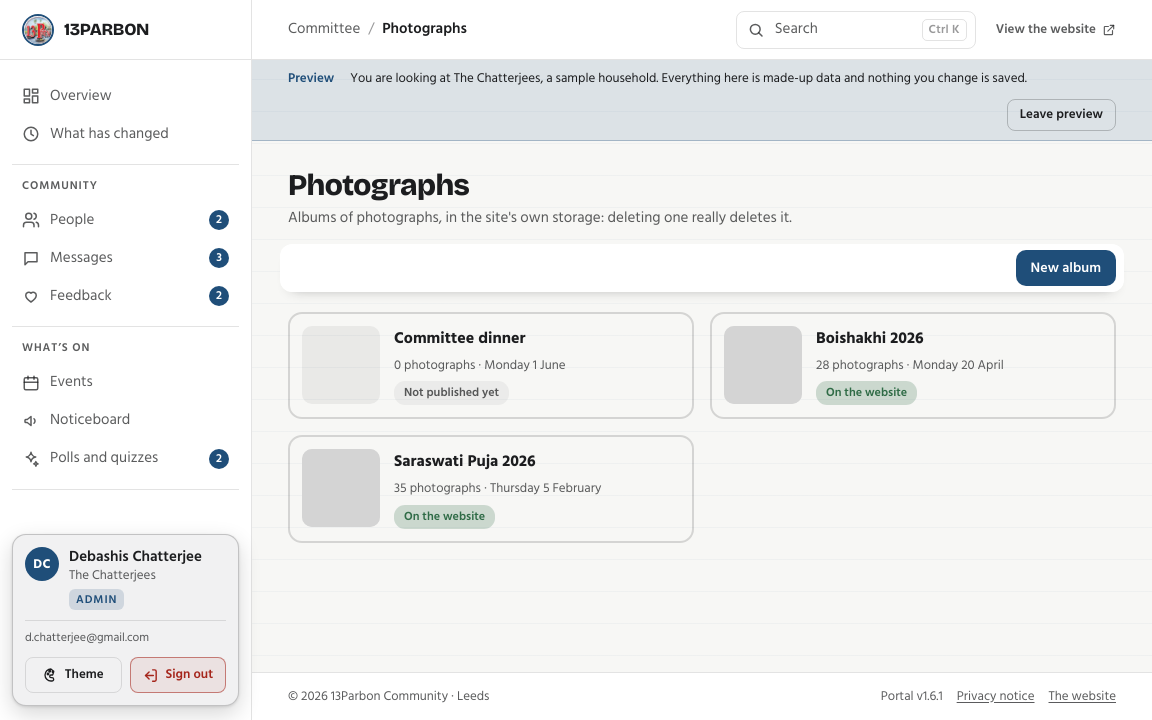
the albums › refuses one with no name and stays on the form
The width and height of the screenshot is (1152, 720).
Click the button "New album" at (1066, 268), box [1016,250,1116,286]
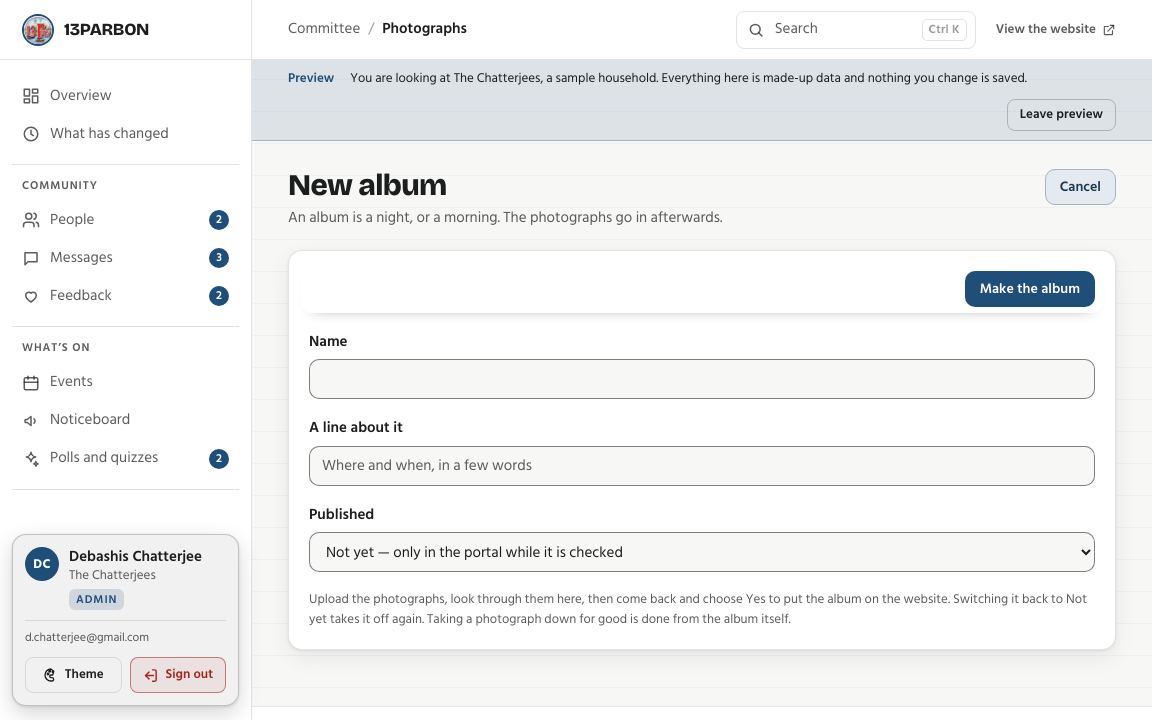
Click the button "Make the album" at (1030, 289), box [965,271,1095,307]
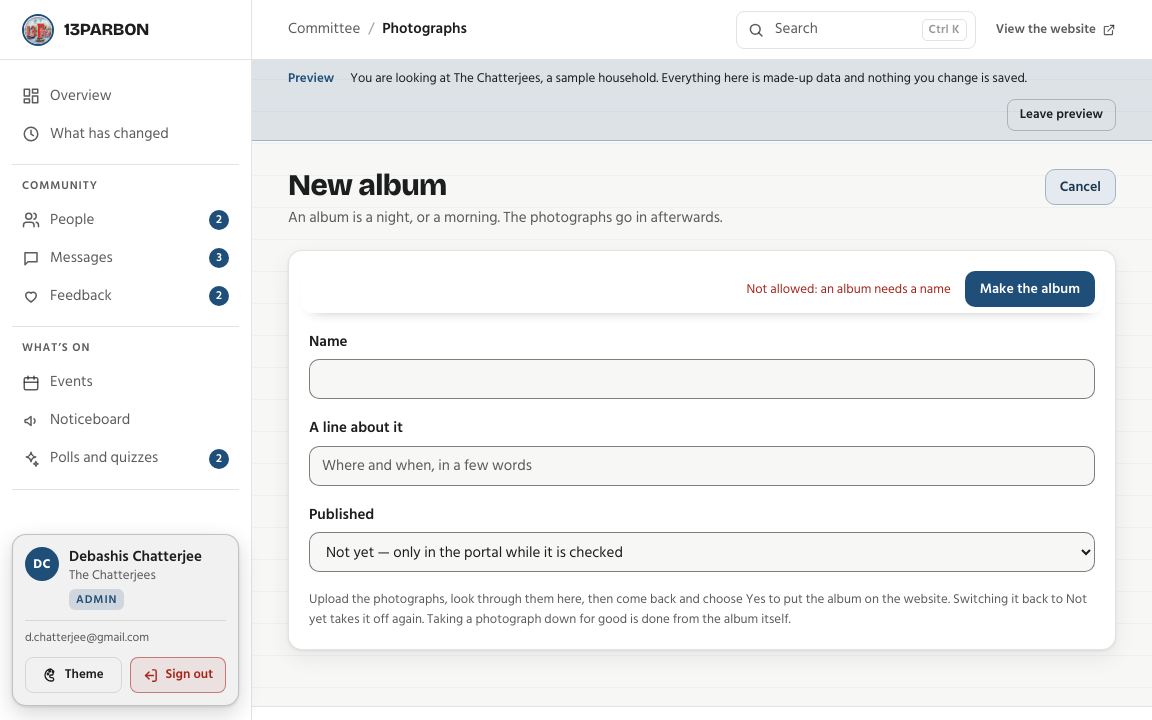
Result: the text "Not allowed: an album needs a name" is shown at [746,278,951,300]
